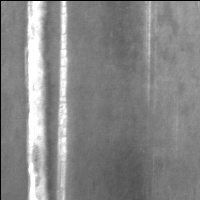scratches: (22, 1, 59, 200), (56, 1, 68, 200), (141, 1, 155, 110)
